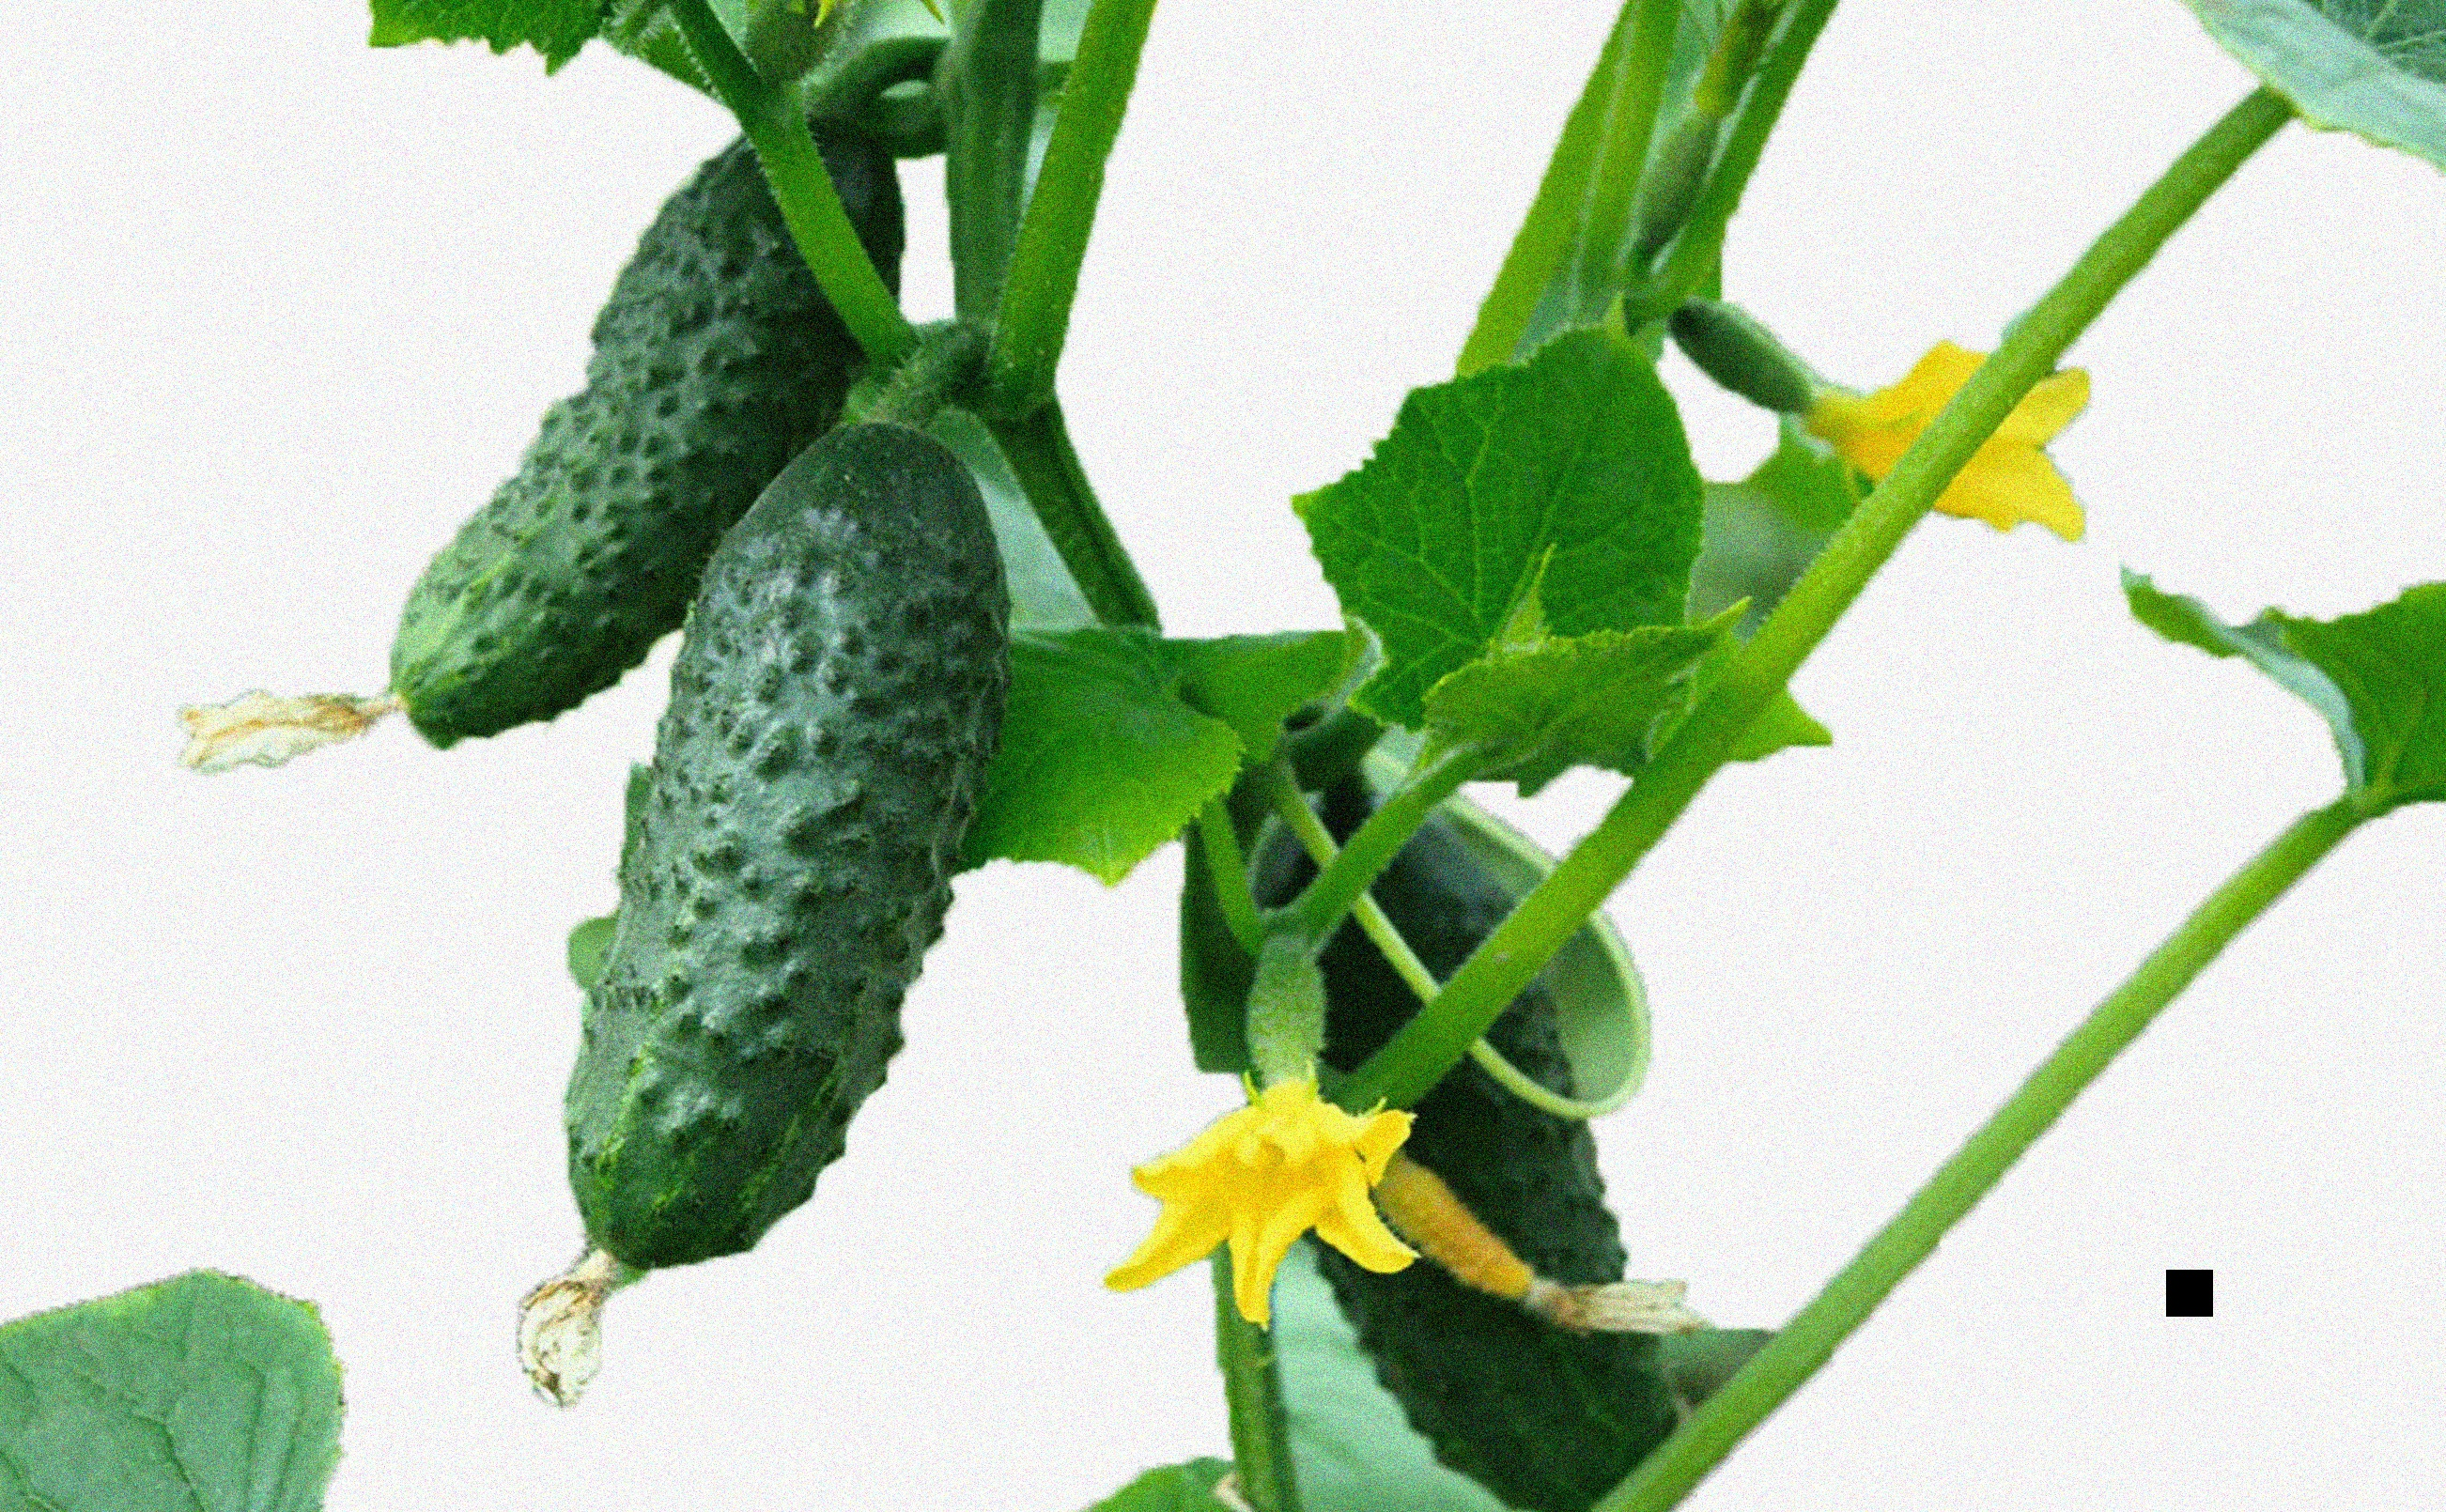cucumber: (332, 94, 950, 765), (559, 428, 1003, 1283)
cucumber_plant: (1066, 3, 2123, 1493)
